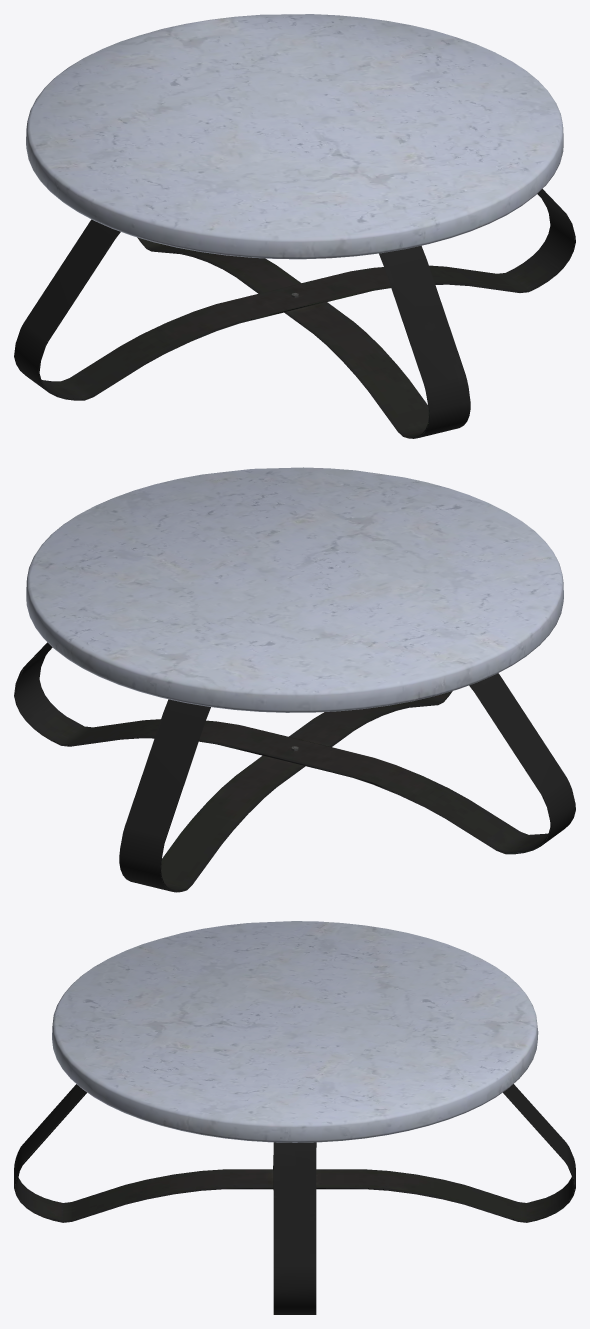
Rendered from coffee_table_round_01.glb.
3 views of the same model, one above another, from view 1: azimuth 30°, elevation 25°; view 2: azimuth 150°, elevation 25°; view 3: azimuth 270°, elevation 25° (orthographic). The views are drawn at different scales.
Parts seen in each view (by area): view 1: coffee_table_round_01; view 2: coffee_table_round_01; view 3: coffee_table_round_01.
Part boxes in pixels (box(x1,y1,x2,y2)): coffee_table_round_01: box(14, 14, 575, 438); coffee_table_round_01: box(14, 467, 575, 892); coffee_table_round_01: box(14, 921, 575, 1314).
Size of the model in its own units: 1.3 by 0.4909 by 1.3.
1 material, 1 textured.
